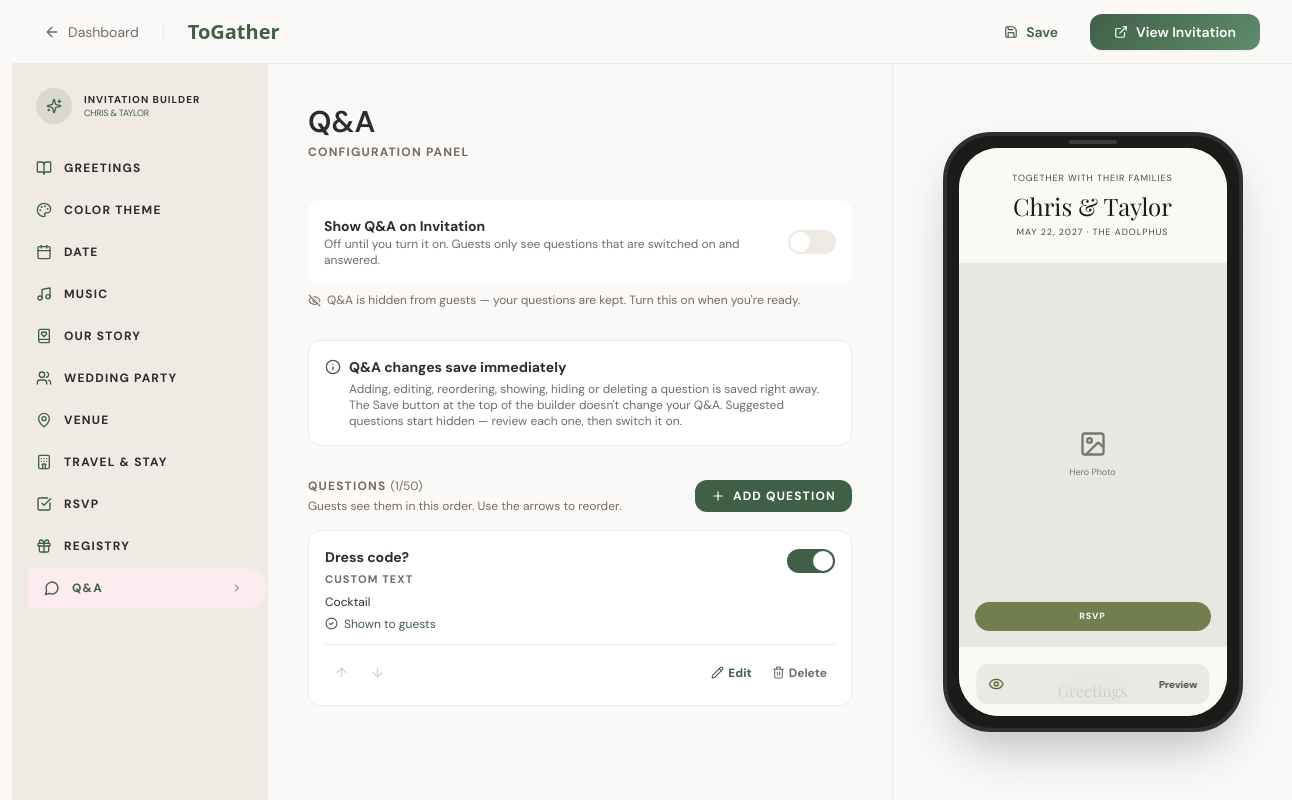
Q&A — visibility › turning it on saves immediately and shows ready questions
The image size is (1292, 800).
Expected: the element that starts with "Q&A" is shown, [268, 64, 892, 799]
Click the switch named "Show Q&A on Invitation": (812,242) [788, 230, 836, 254]
(page scrolled)
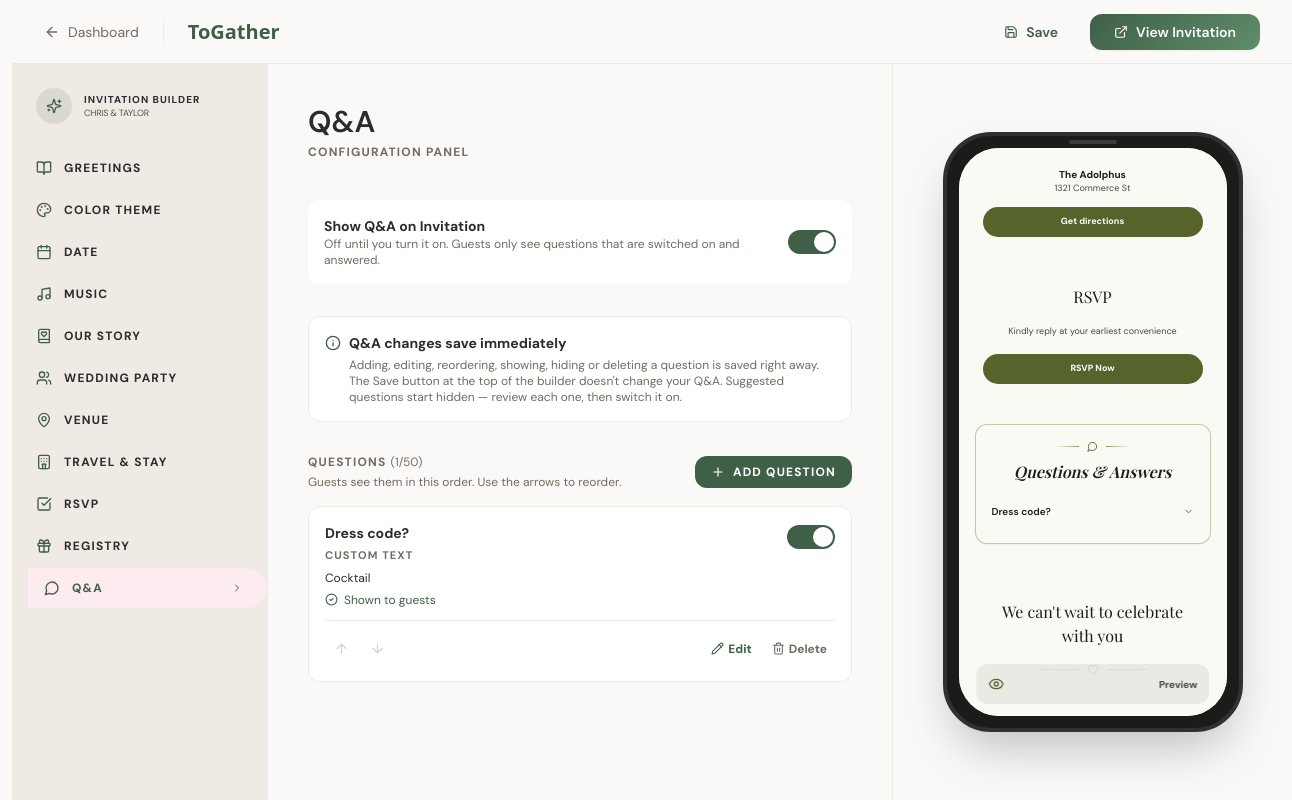
Now the heading "Questions & Answers" is shown, box [1014, 460, 1171, 482]
Now the button "Dress code?" is shown, box [992, 496, 1194, 526]
